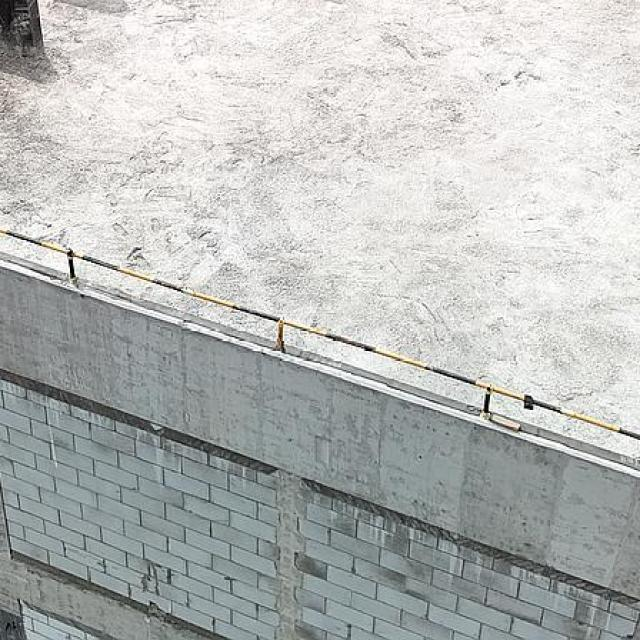edge_guardrail: (0, 226, 640, 441)
